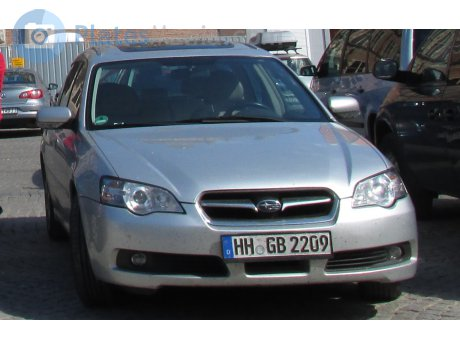License Plates: (231, 236, 331, 253)
